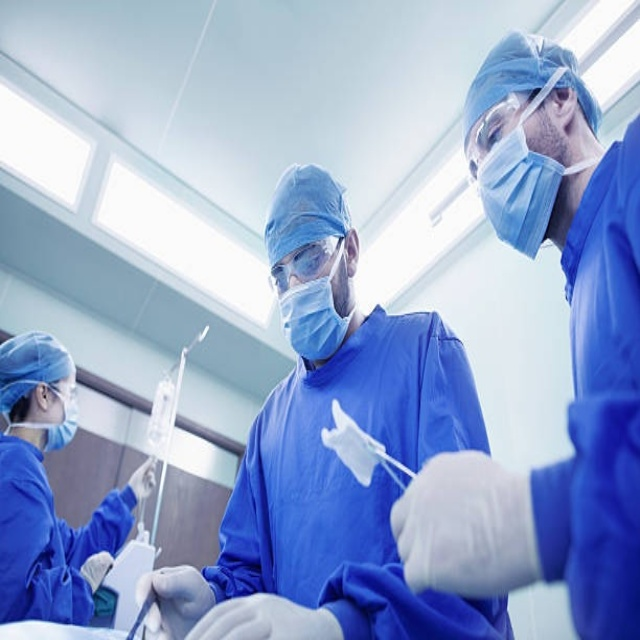Gafas: (464, 85, 539, 179), (270, 232, 342, 293), (40, 381, 78, 400)
Guantes: (387, 449, 544, 601), (186, 588, 348, 634), (134, 564, 215, 640), (126, 455, 159, 501), (80, 550, 114, 594)
Mascara: (474, 94, 567, 259), (276, 242, 354, 361), (38, 382, 79, 451)
